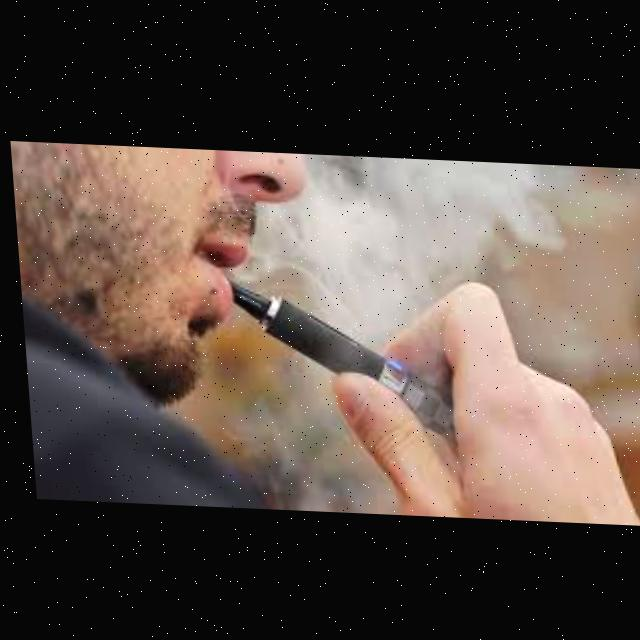vape: (226, 281, 448, 437)
